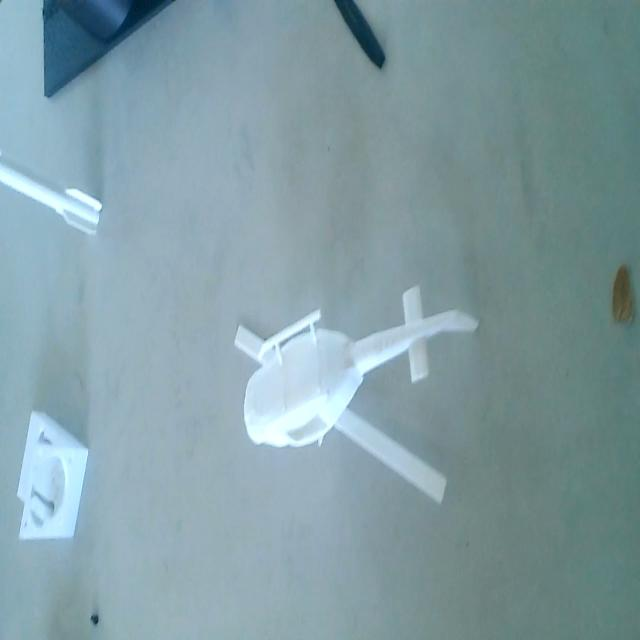Helicopter: (224, 282, 482, 520)
Rocket: (0, 156, 102, 237)
